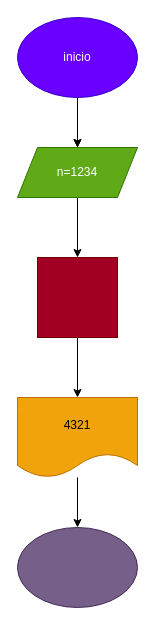
The diagram is 155 pixels wide and 625 high, and some of its shapes have lost their labels. Each missing label, with the centre of its shape:
fin: (77,567)
r=n%10 de=n//10: (77,297)
